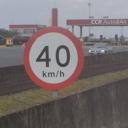speed_limit_40: (24, 26, 84, 90)
